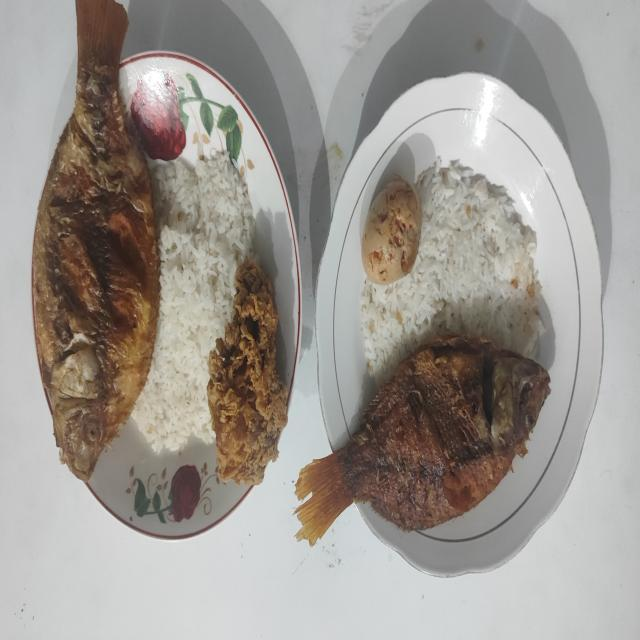ikan_mujair: (32, 0, 160, 481), (296, 339, 550, 542)
nasi_putih: (360, 160, 544, 383), (132, 155, 254, 450)
